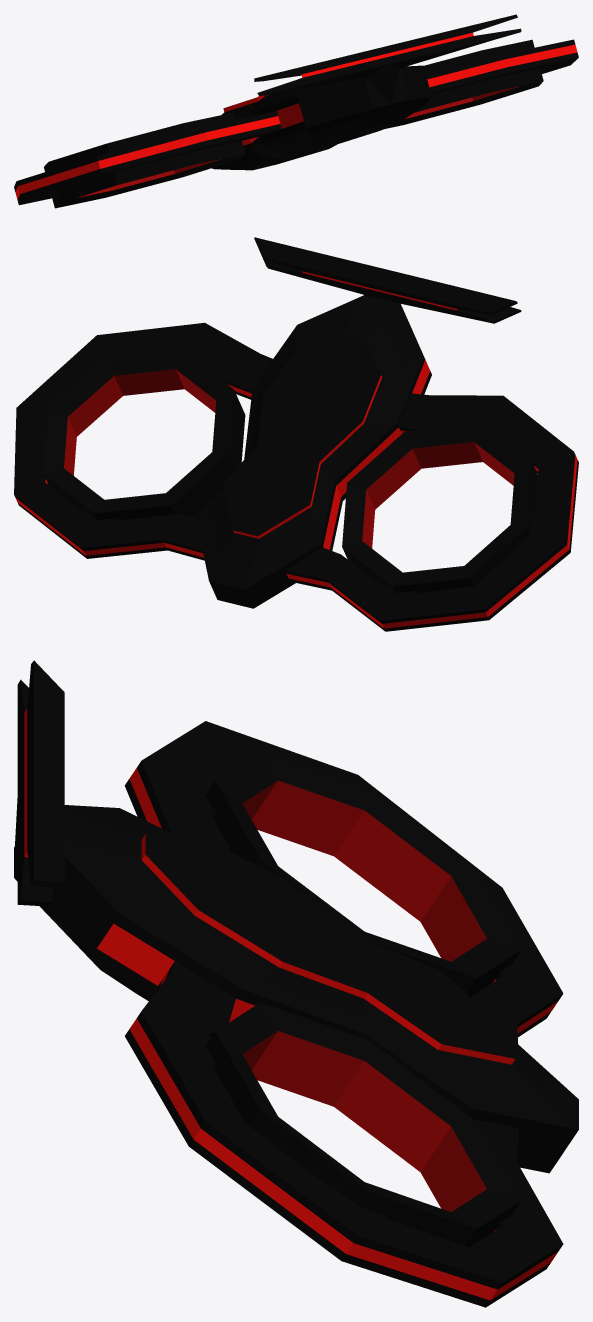
The model's file is tronDrone.obj.
3 renders of one model, top to bottom at view 1: azimuth 30°, elevation 25°; view 2: azimuth 150°, elevation 25°; view 3: azimuth 270°, elevation 25°, orthographic. The views are drawn at different scales.
Parts seen in each view (by area): view 1: Cylinder.003_Cylinder.015_Cylinder.003_Cylinder.015_Material.069, Cylinder.003_Cylinder.015_Cylinder.003_Cylinder.015_Material.067, Cylinder.003_Cylinder.015_Cylinder.003_Cylinder.015_Material.070, Cylinder.003_Cylinder.015_Cylinder.003_Cylinder.015_Material.068; view 2: Cylinder.003_Cylinder.015_Cylinder.003_Cylinder.015_Material.069, Cylinder.003_Cylinder.015_Cylinder.003_Cylinder.015_Material.067, Cylinder.003_Cylinder.015_Cylinder.003_Cylinder.015_Material.068, Cylinder.003_Cylinder.015_Cylinder.003_Cylinder.015_Material.070; view 3: Cylinder.003_Cylinder.015_Cylinder.003_Cylinder.015_Material.069, Cylinder.003_Cylinder.015_Cylinder.003_Cylinder.015_Material.067, Cylinder.003_Cylinder.015_Cylinder.003_Cylinder.015_Material.068, Cylinder.003_Cylinder.015_Cylinder.003_Cylinder.015_Material.070.
Boxes of the visible parts, x1,y1,x2,y2 form: Cylinder.003_Cylinder.015_Cylinder.003_Cylinder.015_Material.069: (14, 14, 578, 205); Cylinder.003_Cylinder.015_Cylinder.003_Cylinder.015_Material.067: (44, 39, 543, 208); Cylinder.003_Cylinder.015_Cylinder.003_Cylinder.015_Material.070: (15, 32, 577, 199); Cylinder.003_Cylinder.015_Cylinder.003_Cylinder.015_Material.068: (77, 86, 519, 197); Cylinder.003_Cylinder.015_Cylinder.003_Cylinder.015_Material.069: (14, 237, 578, 631); Cylinder.003_Cylinder.015_Cylinder.003_Cylinder.015_Material.067: (43, 350, 537, 592); Cylinder.003_Cylinder.015_Cylinder.003_Cylinder.015_Material.068: (64, 369, 514, 548); Cylinder.003_Cylinder.015_Cylinder.003_Cylinder.015_Material.070: (15, 271, 577, 628); Cylinder.003_Cylinder.015_Cylinder.003_Cylinder.015_Material.069: (14, 660, 578, 1307); Cylinder.003_Cylinder.015_Cylinder.003_Cylinder.015_Material.067: (205, 752, 521, 1246); Cylinder.003_Cylinder.015_Cylinder.003_Cylinder.015_Material.068: (242, 780, 486, 1211); Cylinder.003_Cylinder.015_Cylinder.003_Cylinder.015_Material.070: (24, 709, 558, 1300).
Size of the model in its own units: 3.34 by 1.31 by 1.73.
